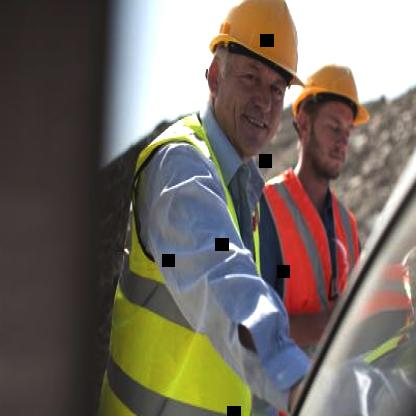helmet: (202, 0, 313, 168), (284, 43, 368, 186)
